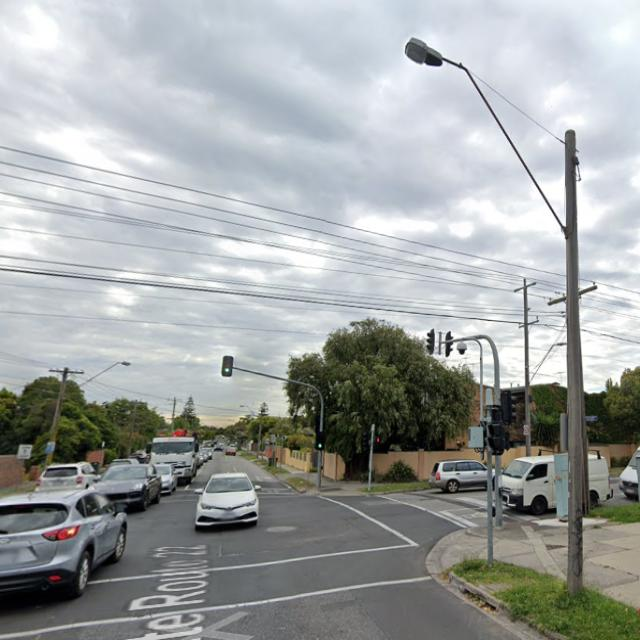crossarm: (547, 281, 597, 306), (48, 365, 84, 375), (517, 315, 541, 330), (512, 282, 536, 292)
steel-pole: (491, 356, 503, 530), (484, 387, 494, 568), (366, 423, 376, 493), (316, 401, 324, 488)
streetlight: (402, 35, 568, 240), (62, 360, 131, 399)
timber-pole: (564, 128, 584, 600), (43, 367, 69, 474), (523, 276, 531, 456)
traffic-light: (484, 406, 507, 454), (501, 388, 518, 429), (426, 328, 436, 355), (222, 356, 234, 378), (446, 330, 454, 358), (373, 434, 383, 454), (315, 431, 324, 452)
